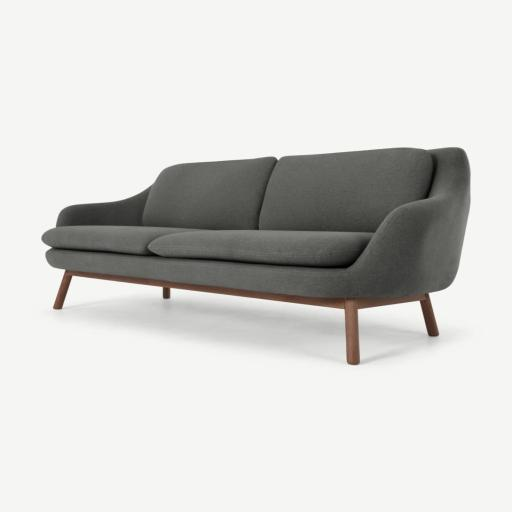back_cushion: (144, 148, 432, 231)
base: (46, 249, 350, 298)
left_arm: (347, 148, 470, 296)
legs: (53, 270, 438, 365)
right_arm: (56, 187, 151, 226)
seat_cushion: (43, 226, 372, 267)
two-seater: (0, 0, 511, 512)
